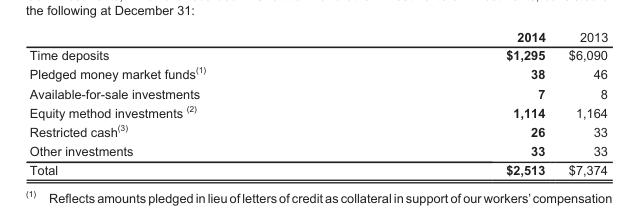table: (28, 28, 607, 176)
table column: (28, 28, 355, 176), (355, 28, 556, 176), (556, 28, 607, 176)
table column header: (28, 28, 607, 45)
table row: (28, 120, 607, 141), (28, 63, 607, 83), (28, 101, 607, 120), (28, 141, 607, 160), (28, 45, 607, 63), (28, 83, 607, 101), (28, 28, 607, 45), (28, 160, 607, 176)
